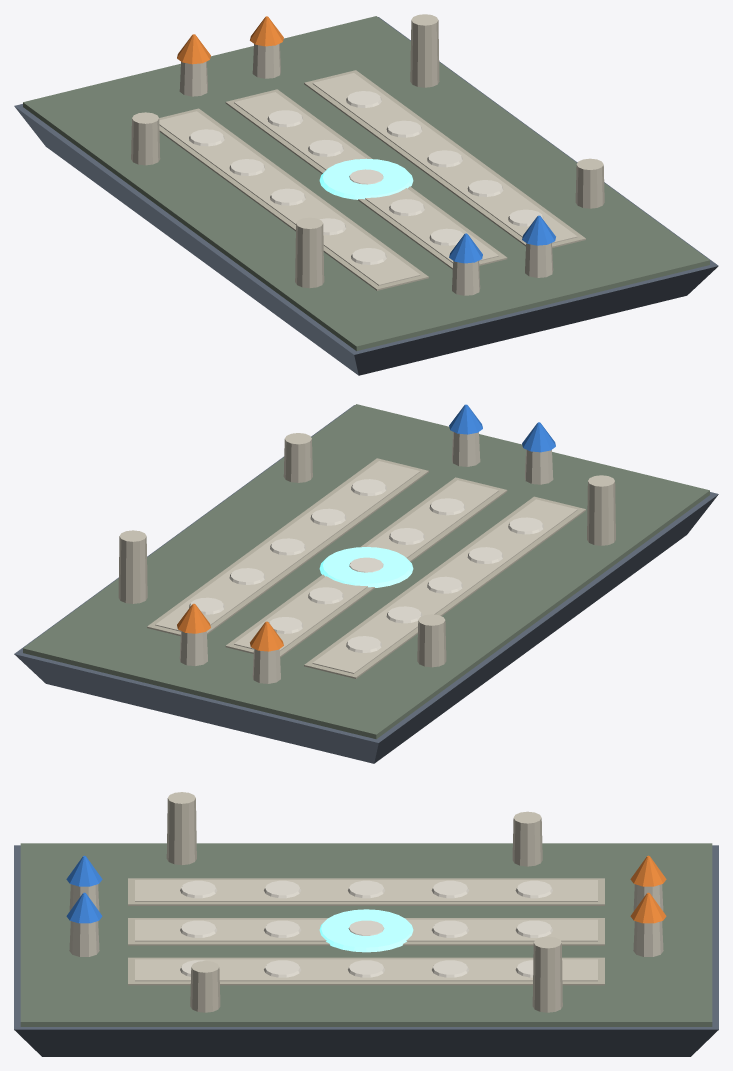
The model's file is field-ruins-v2.glb.
3 views of the same model, one above another, from view 1: azimuth 30°, elevation 25°; view 2: azimuth 150°, elevation 25°; view 3: azimuth 270°, elevation 25° (orthographic). The views are drawn at different scales.
Visible parts, largest first — view 1: Deck_Top, Island_Base, LanePath_0, LanePath_2, LanePath_1, LaneCurb_2, LaneCurb_0, Monster_Plaza, LaneCurb_1, BrokenColumn_3, BrokenColumn_0, BrokenColumn_2 (+9 smaller); view 2: Deck_Top, Island_Base, LanePath_0, LanePath_2, LanePath_1, LaneCurb_0, LaneCurb_2, Monster_Plaza, LaneCurb_1, BrokenColumn_3, BrokenColumn_0, BrokenColumn_2 (+9 smaller); view 3: Deck_Top, Island_Base, LanePath_0, LanePath_2, LanePath_1, LaneCurb_2, LaneCurb_0, LaneCurb_1, Monster_Plaza, BrokenColumn_3, BrokenColumn_0, BrokenColumn_2 (+22 smaller).
Boxes of the visible parts, x1,y1,x2,y2 form: Deck_Top: (23, 16, 709, 351); Island_Base: (14, 17, 718, 375); LanePath_0: (159, 111, 420, 285); LanePath_2: (312, 73, 577, 243); LanePath_1: (234, 92, 498, 262); LaneCurb_2: (304, 70, 585, 247); LaneCurb_0: (159, 108, 428, 290); Monster_Plaza: (319, 158, 413, 199); LaneCurb_1: (225, 89, 507, 269); BrokenColumn_3: (410, 14, 439, 87); BrokenColumn_0: (295, 217, 324, 288); BrokenColumn_2: (131, 112, 160, 165); Deck_Top: (23, 404, 709, 739); Island_Base: (14, 405, 718, 763); LanePath_0: (312, 499, 577, 673); LanePath_2: (155, 461, 420, 631); LanePath_1: (234, 480, 498, 650); LaneCurb_0: (304, 496, 585, 678); LaneCurb_2: (147, 458, 428, 636); Monster_Plaza: (319, 547, 413, 587); LaneCurb_1: (225, 477, 507, 657); BrokenColumn_3: (118, 530, 147, 603); BrokenColumn_0: (587, 475, 615, 545); BrokenColumn_2: (417, 614, 446, 667); Deck_Top: (20, 843, 712, 1026); Island_Base: (14, 845, 718, 1056); LanePath_0: (135, 880, 597, 901); LanePath_2: (135, 959, 597, 981); LanePath_1: (135, 919, 597, 941); LaneCurb_2: (128, 957, 604, 985); LaneCurb_0: (128, 878, 604, 905); LaneCurb_1: (128, 918, 604, 945); Monster_Plaza: (319, 909, 413, 952); BrokenColumn_3: (532, 936, 562, 1012); BrokenColumn_0: (166, 792, 196, 865); BrokenColumn_2: (512, 811, 542, 866).
Bounding box in the file's own units: 13 × 3.46 × 21.
